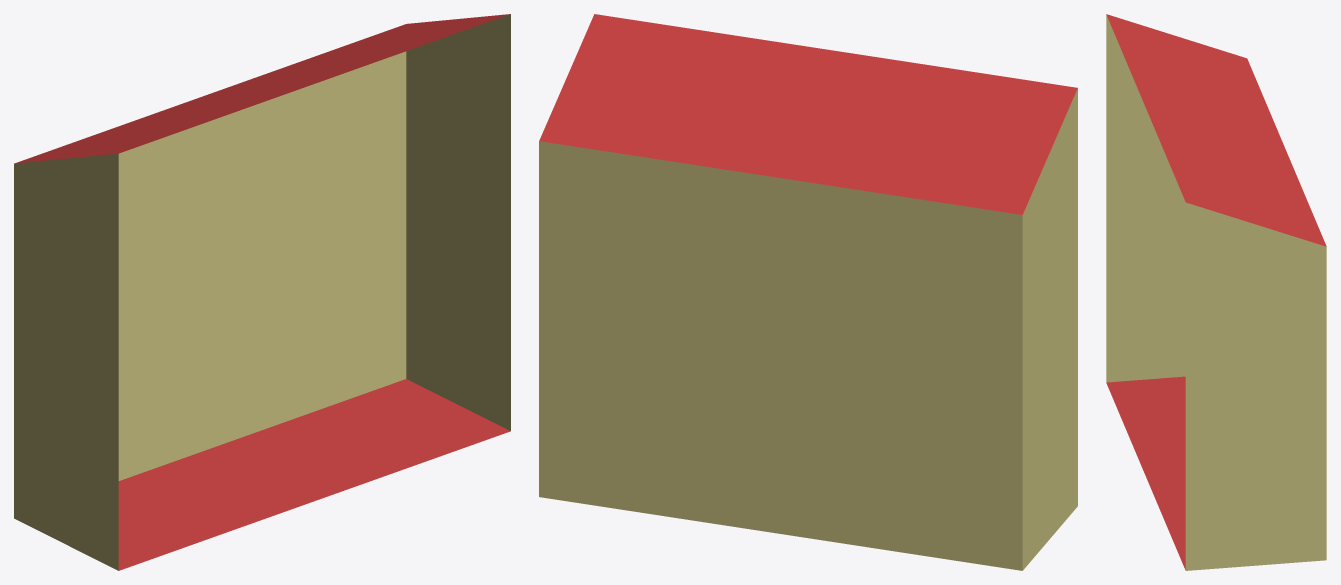
3 renders of one model, left to right at view 1: azimuth 30°, elevation 25°; view 2: azimuth 150°, elevation 25°; view 3: azimuth 270°, elevation 25°, orthographic. The views are drawn at different scales.
Size of the model in its own units: 6.98 by 3.27 by 6.02.
